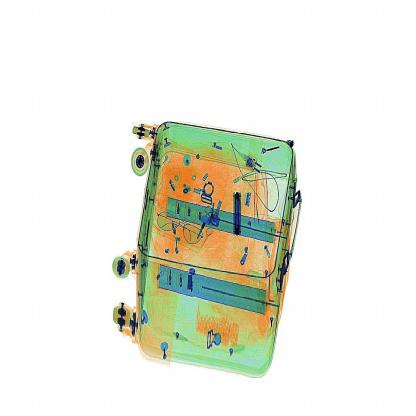scissors: (226, 183, 251, 247)
